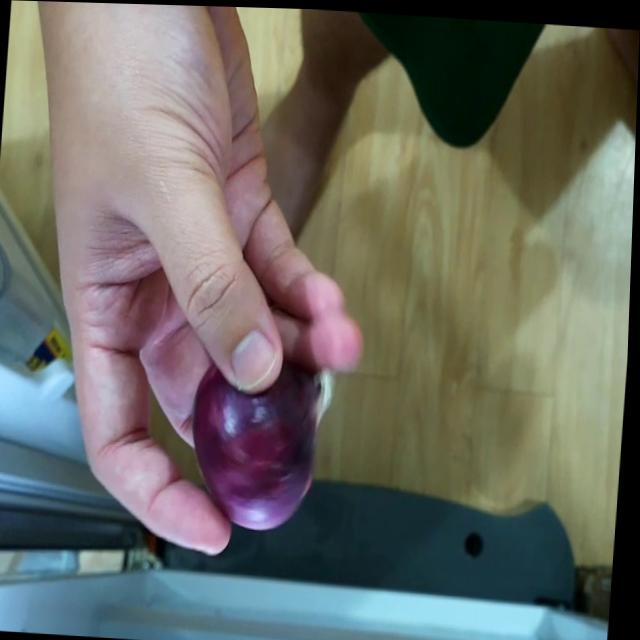milk: (243, 6, 640, 160)
onion: (192, 357, 335, 530)
